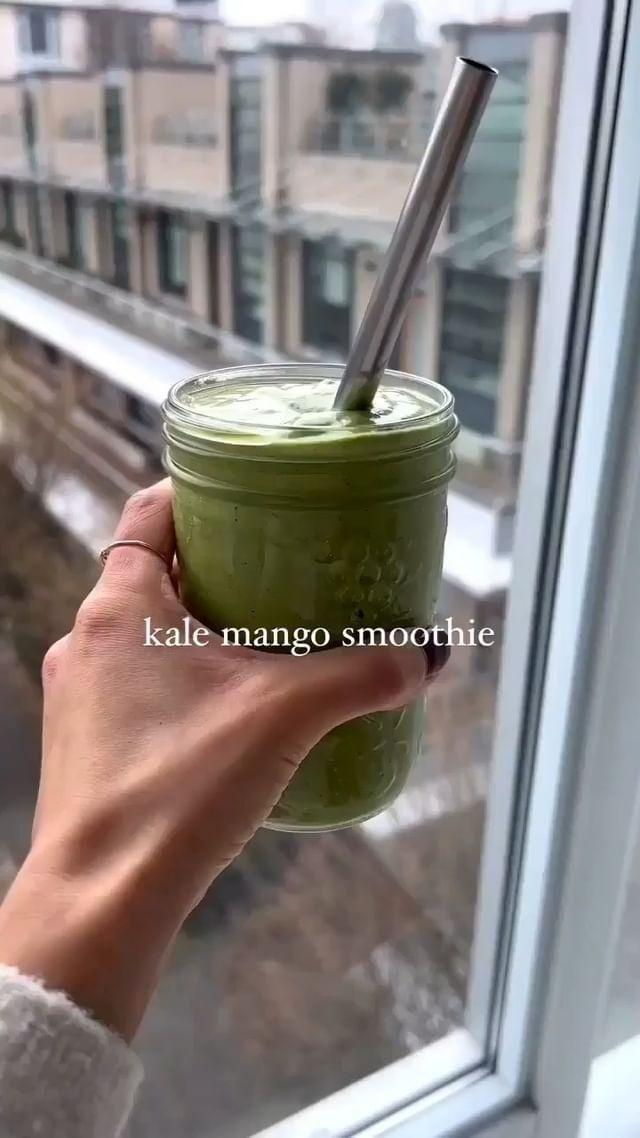cup-disposable: (156, 353, 464, 841)
